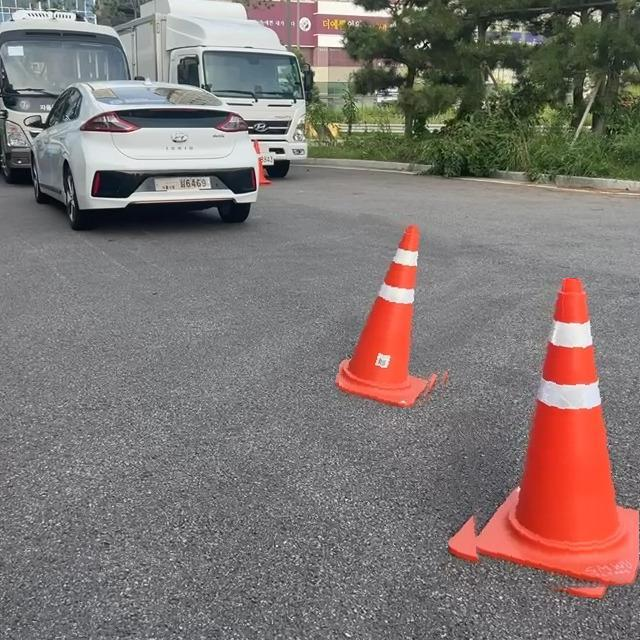fallen_object: (490, 241, 639, 640), (352, 205, 454, 443), (249, 120, 297, 200)
